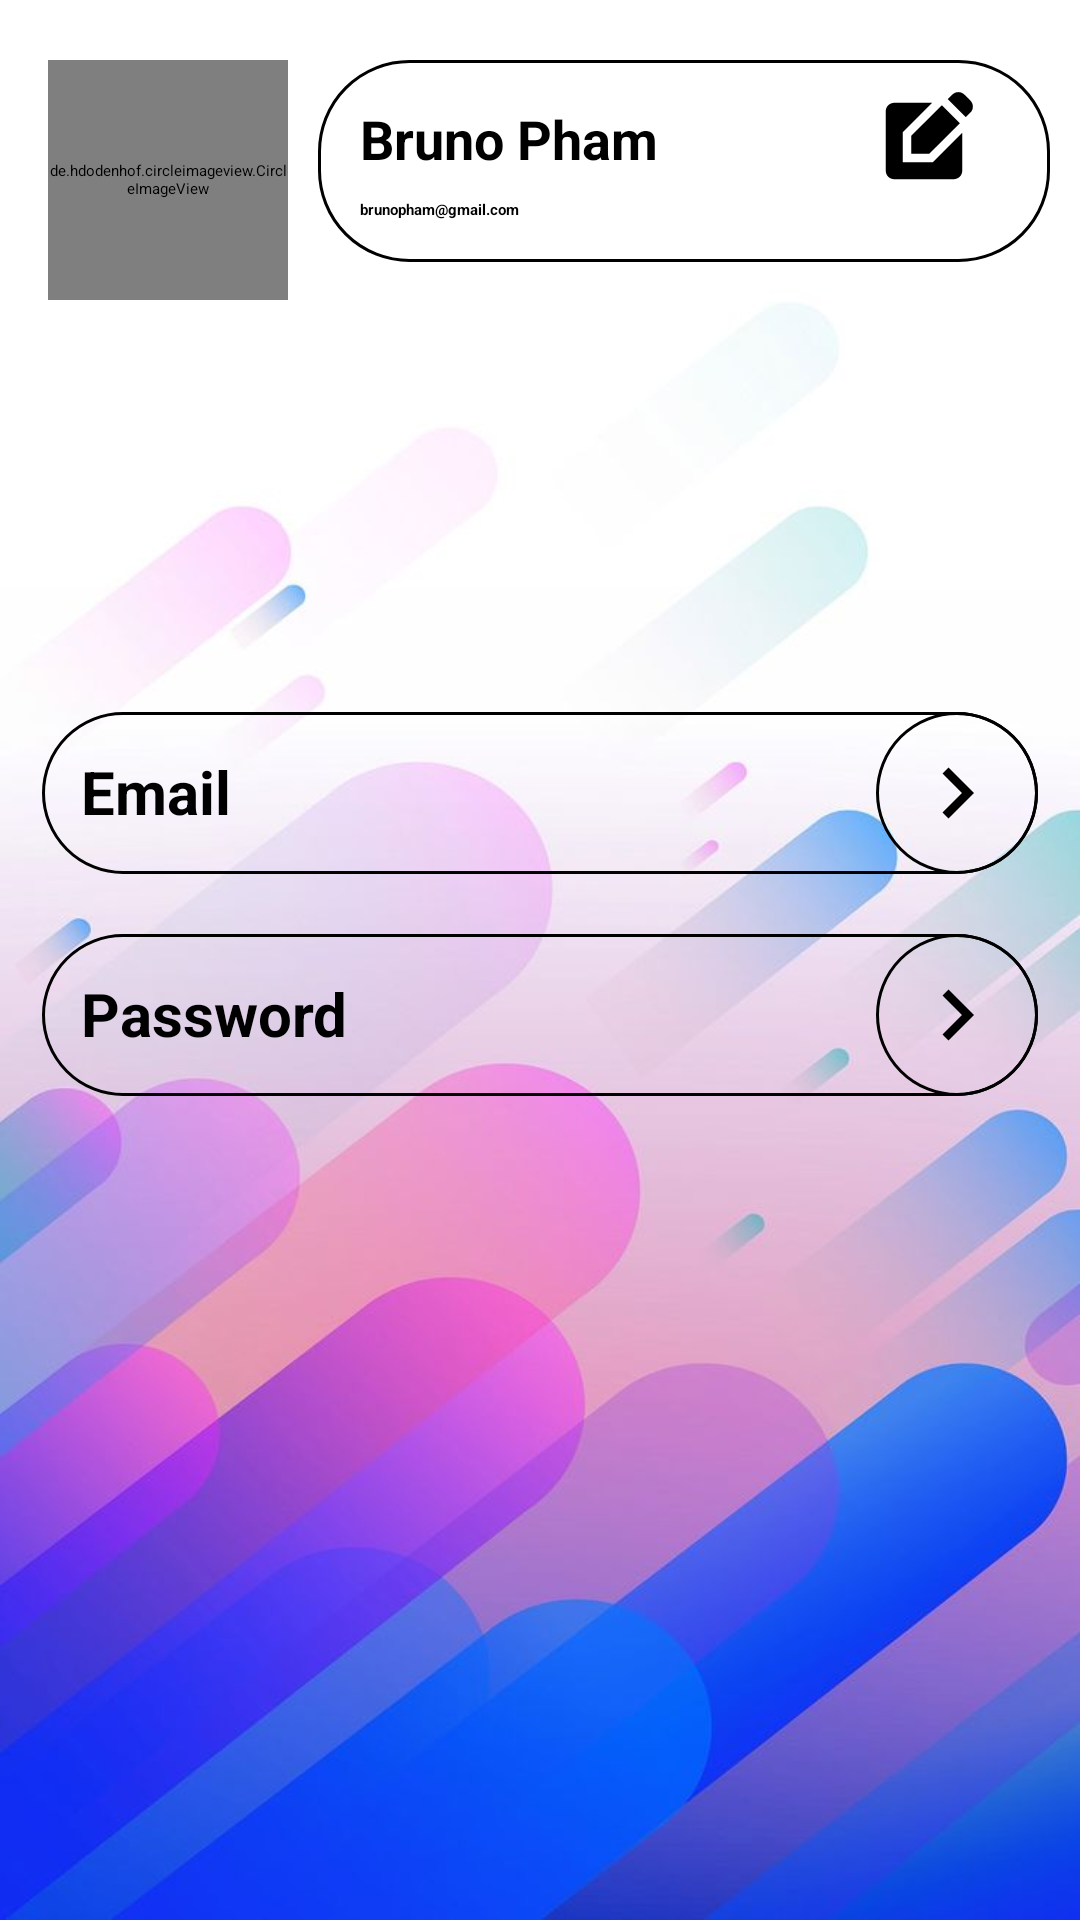

Icon bounding boxes for this 1080w x 1920h phone screenshot, format [left=x1, top=y1, right=x2, bottom=y2]:
edit next: [left=876, top=712, right=1038, bottom=874], [left=876, top=934, right=1038, bottom=1096]
edit profile: [left=885, top=92, right=973, bottom=180]
